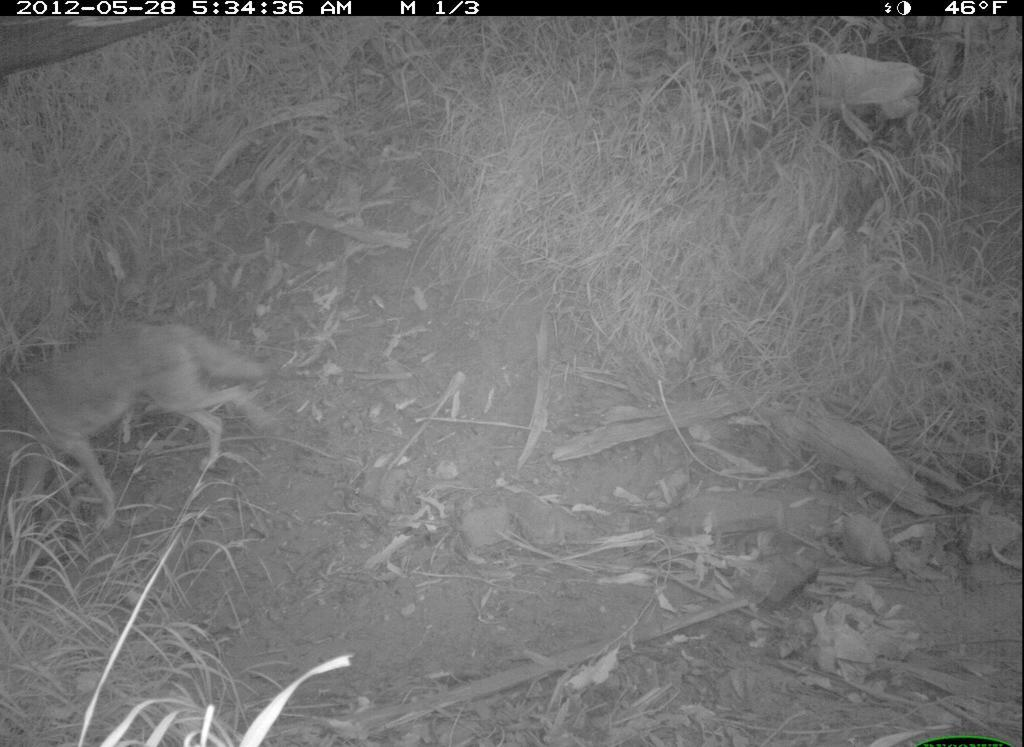coyote: (6, 313, 290, 541)
